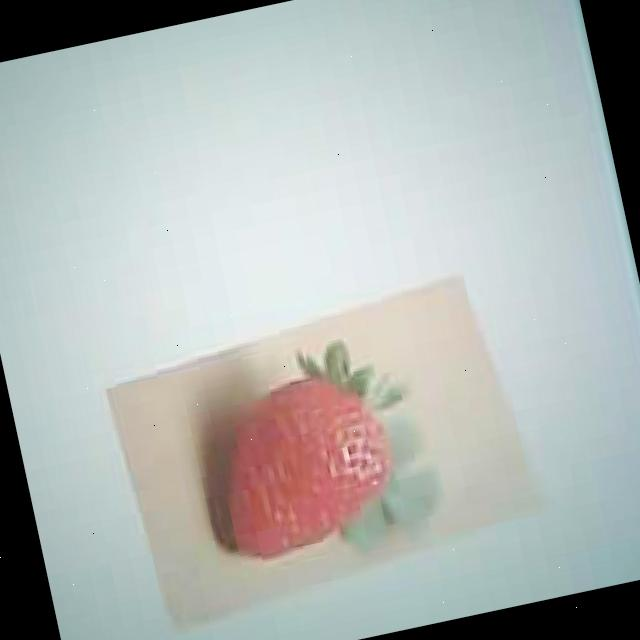strawberry: (204, 362, 408, 564)
